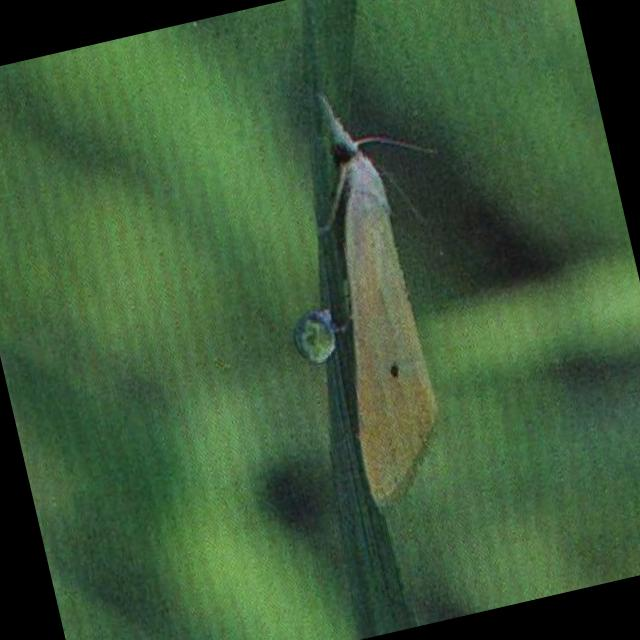stem-borer: (276, 69, 478, 506)
